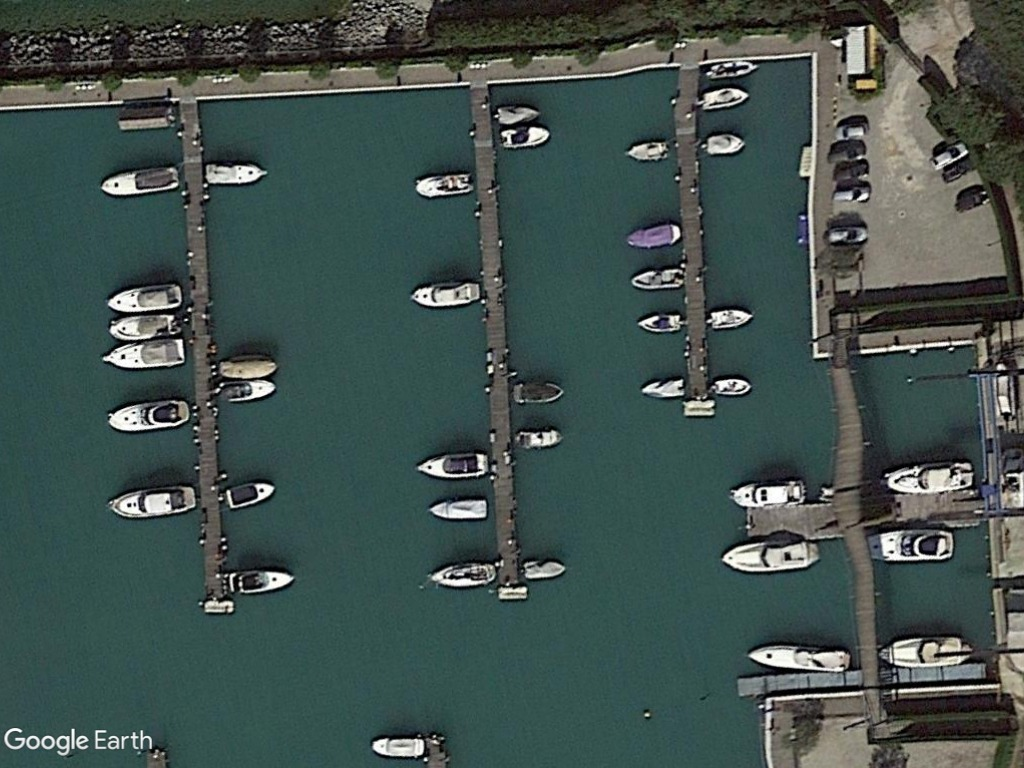boat: (868, 455, 978, 498), (874, 629, 975, 672), (102, 480, 196, 523), (742, 639, 851, 676), (860, 526, 956, 567), (717, 538, 816, 576), (97, 158, 184, 200), (102, 395, 190, 436), (97, 337, 190, 373), (725, 473, 807, 510), (103, 280, 183, 314), (108, 309, 190, 342), (411, 449, 490, 483), (218, 567, 300, 597), (424, 558, 498, 591), (407, 278, 482, 310), (411, 166, 475, 201), (221, 475, 277, 513), (621, 217, 681, 251), (202, 158, 272, 186), (215, 351, 281, 380), (211, 378, 277, 407), (364, 732, 428, 761), (626, 263, 685, 294), (427, 494, 489, 523), (495, 123, 552, 154), (696, 85, 755, 114), (508, 378, 567, 406), (705, 302, 759, 331), (490, 100, 548, 126), (639, 371, 686, 403), (623, 135, 671, 165), (699, 130, 752, 157), (634, 308, 682, 337), (519, 557, 570, 582), (709, 373, 756, 399)
car: (924, 138, 972, 173), (822, 222, 873, 245), (827, 182, 876, 205), (829, 119, 872, 142)
